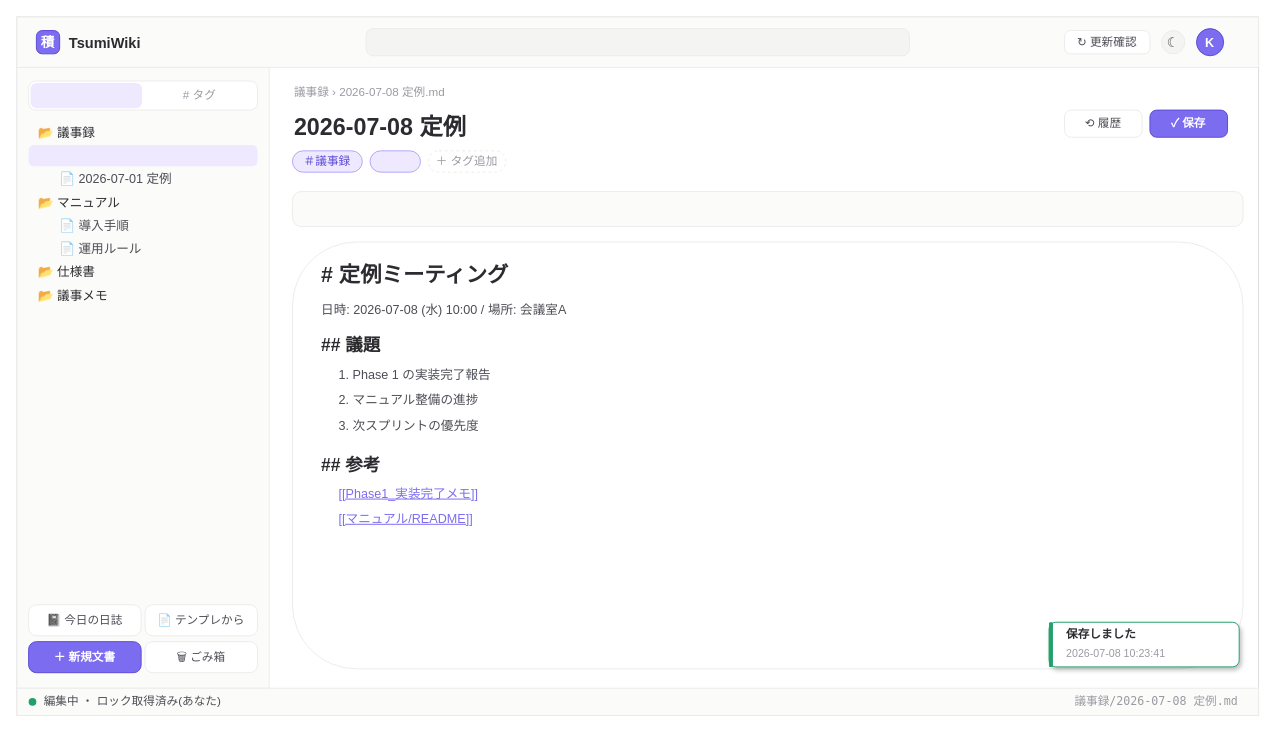
The diagram is 1276 pixels wide and 732 high, and some of its shapes have lost their labels. The shapes that lost their labels are listed below. From the top down, each one's centre as x and y in pixels, then its label:
At [637,42]: "🔍 検索 Ctrl K".
At [86,95]: "📁 フォルダ".
At [142,155]: "📄 2026-07-08 定例".
At [394,161]: "＃定例".
At [767,208]: "H1 H2 H3 | B I S | • 1. ☑ | ▦ ❝ | 🔗 🖼 📊 | 📄 テンプレ適用".
